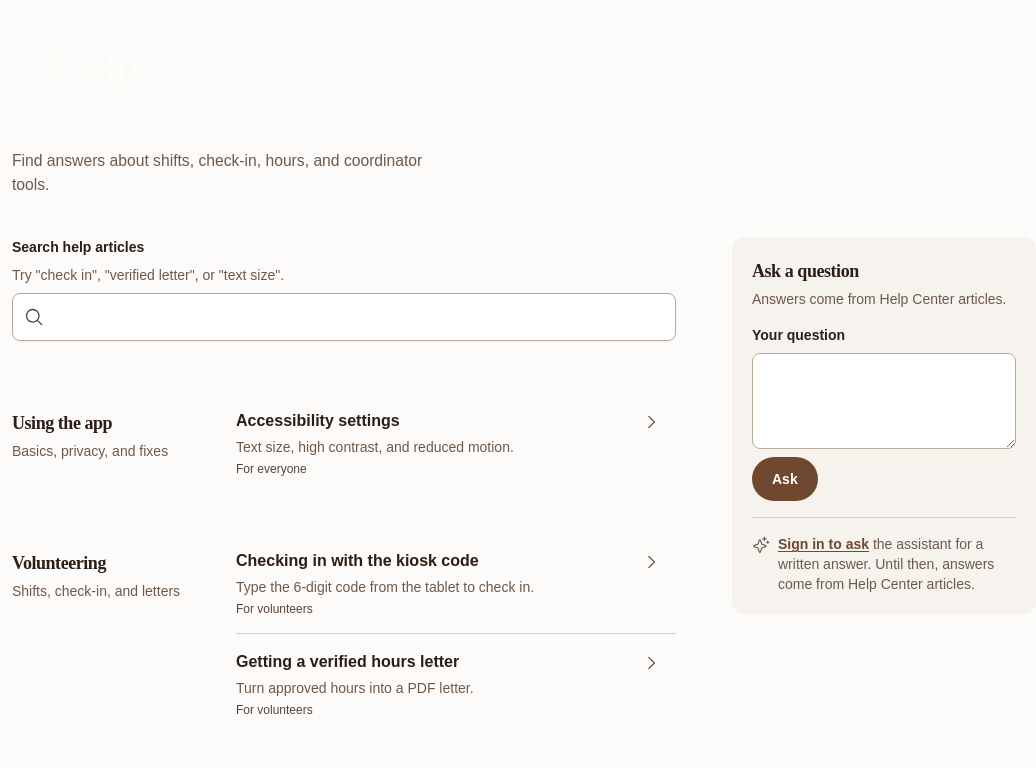
Test: Help Center home › answers a question from help articles with the From Help Center label
Type "how do I check in with a code" into the text box labelled "Your question" at [884, 401], box [752,353,1016,449]
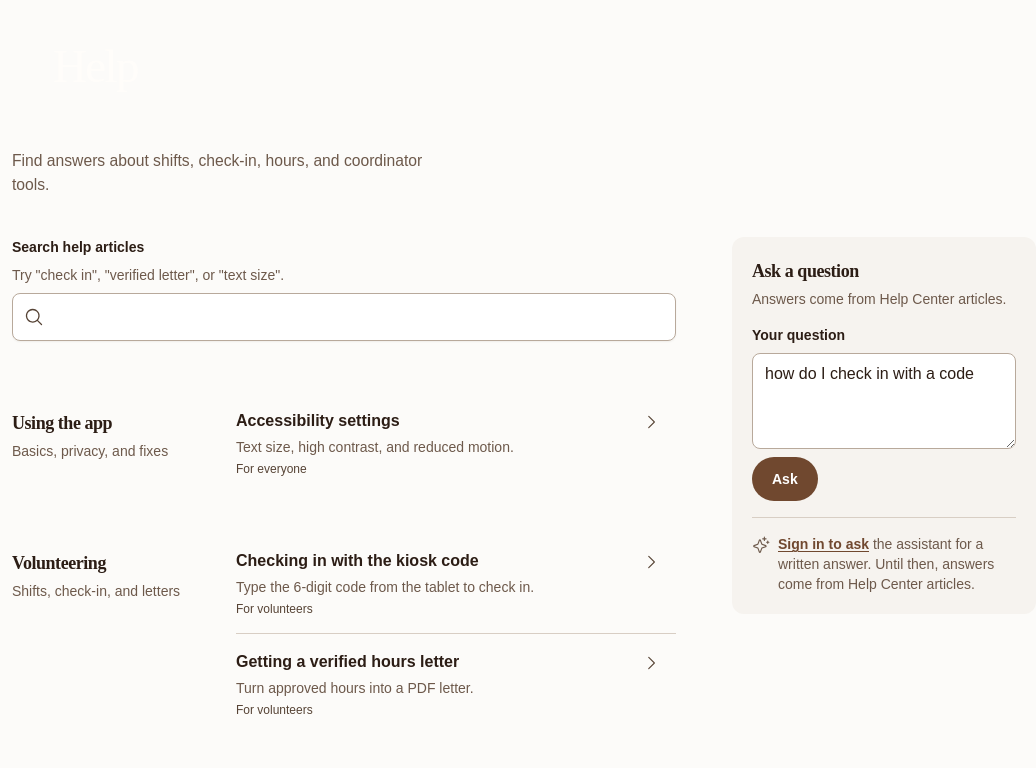
Click the button "Ask" at [785, 479], box [752,457,818,501]
(page scrolled)
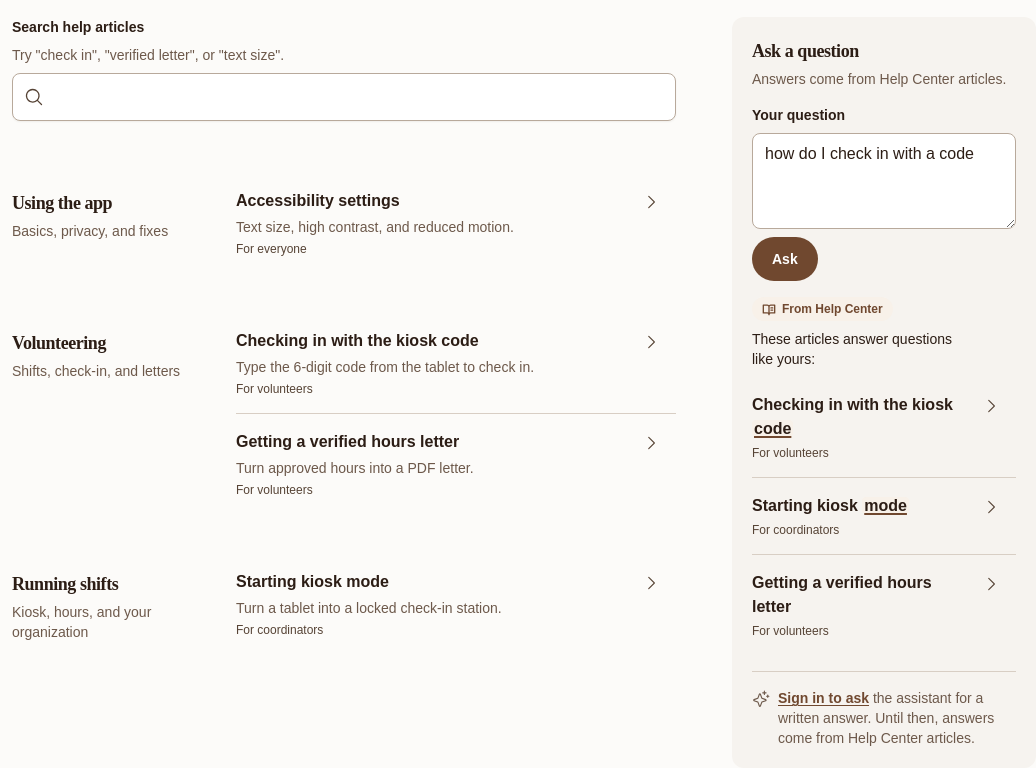
Check: the text "From Help Center" is shown, box [752,297,893,321]
